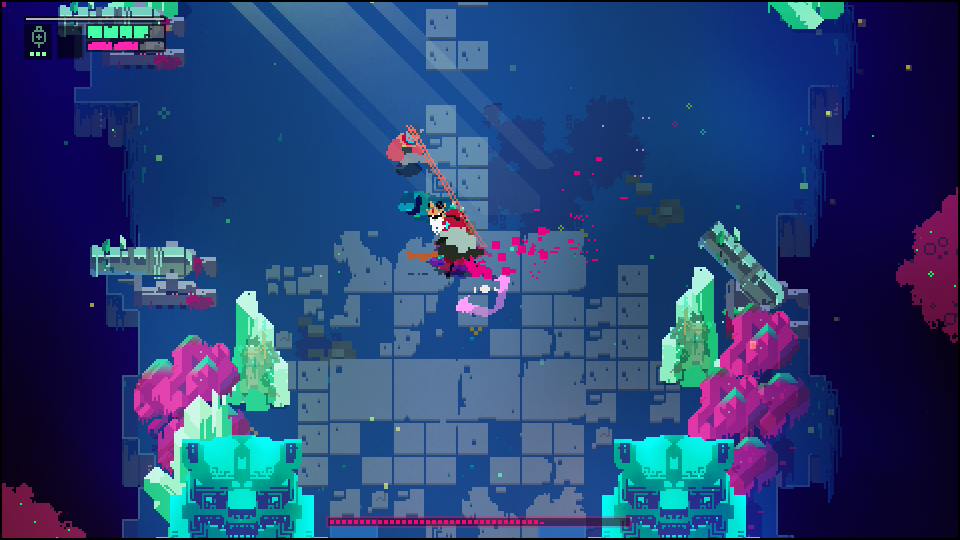hanged_man: (416, 199, 493, 280)
player: (386, 123, 426, 179)
